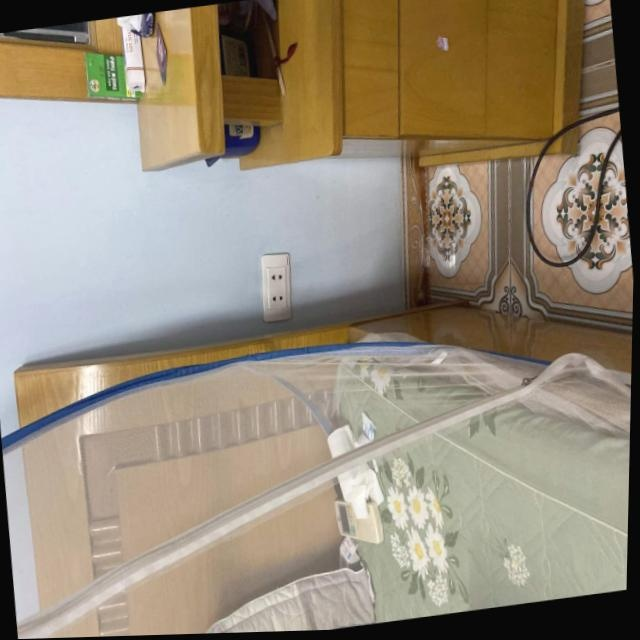outlet: (256, 250, 296, 324)
